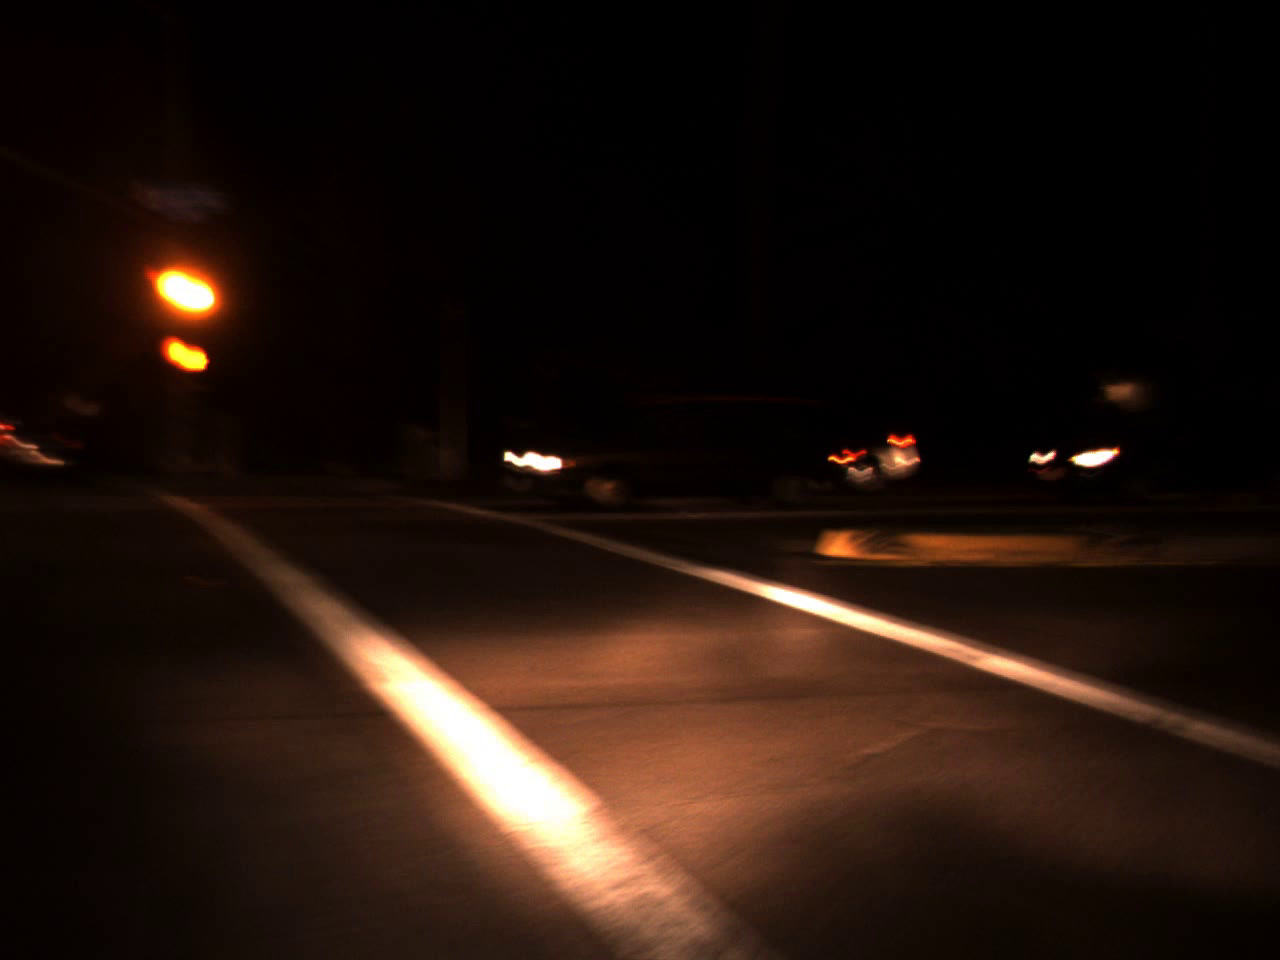warning: (172, 263, 215, 320)
